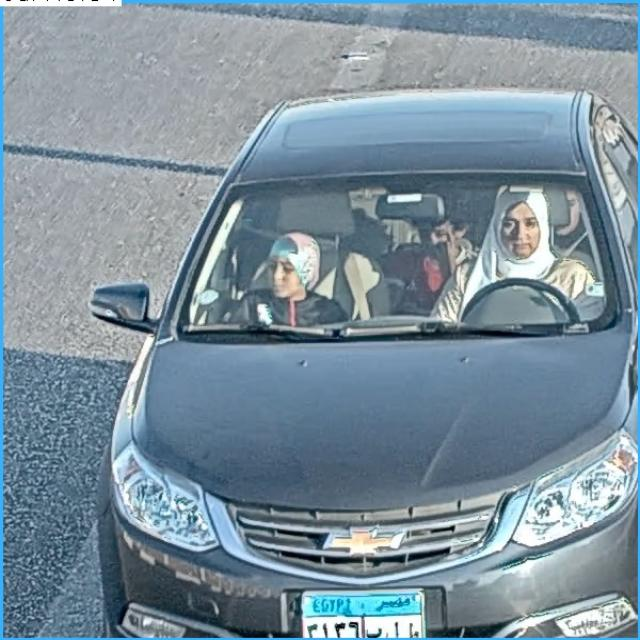windshield: (175, 181, 627, 330)
